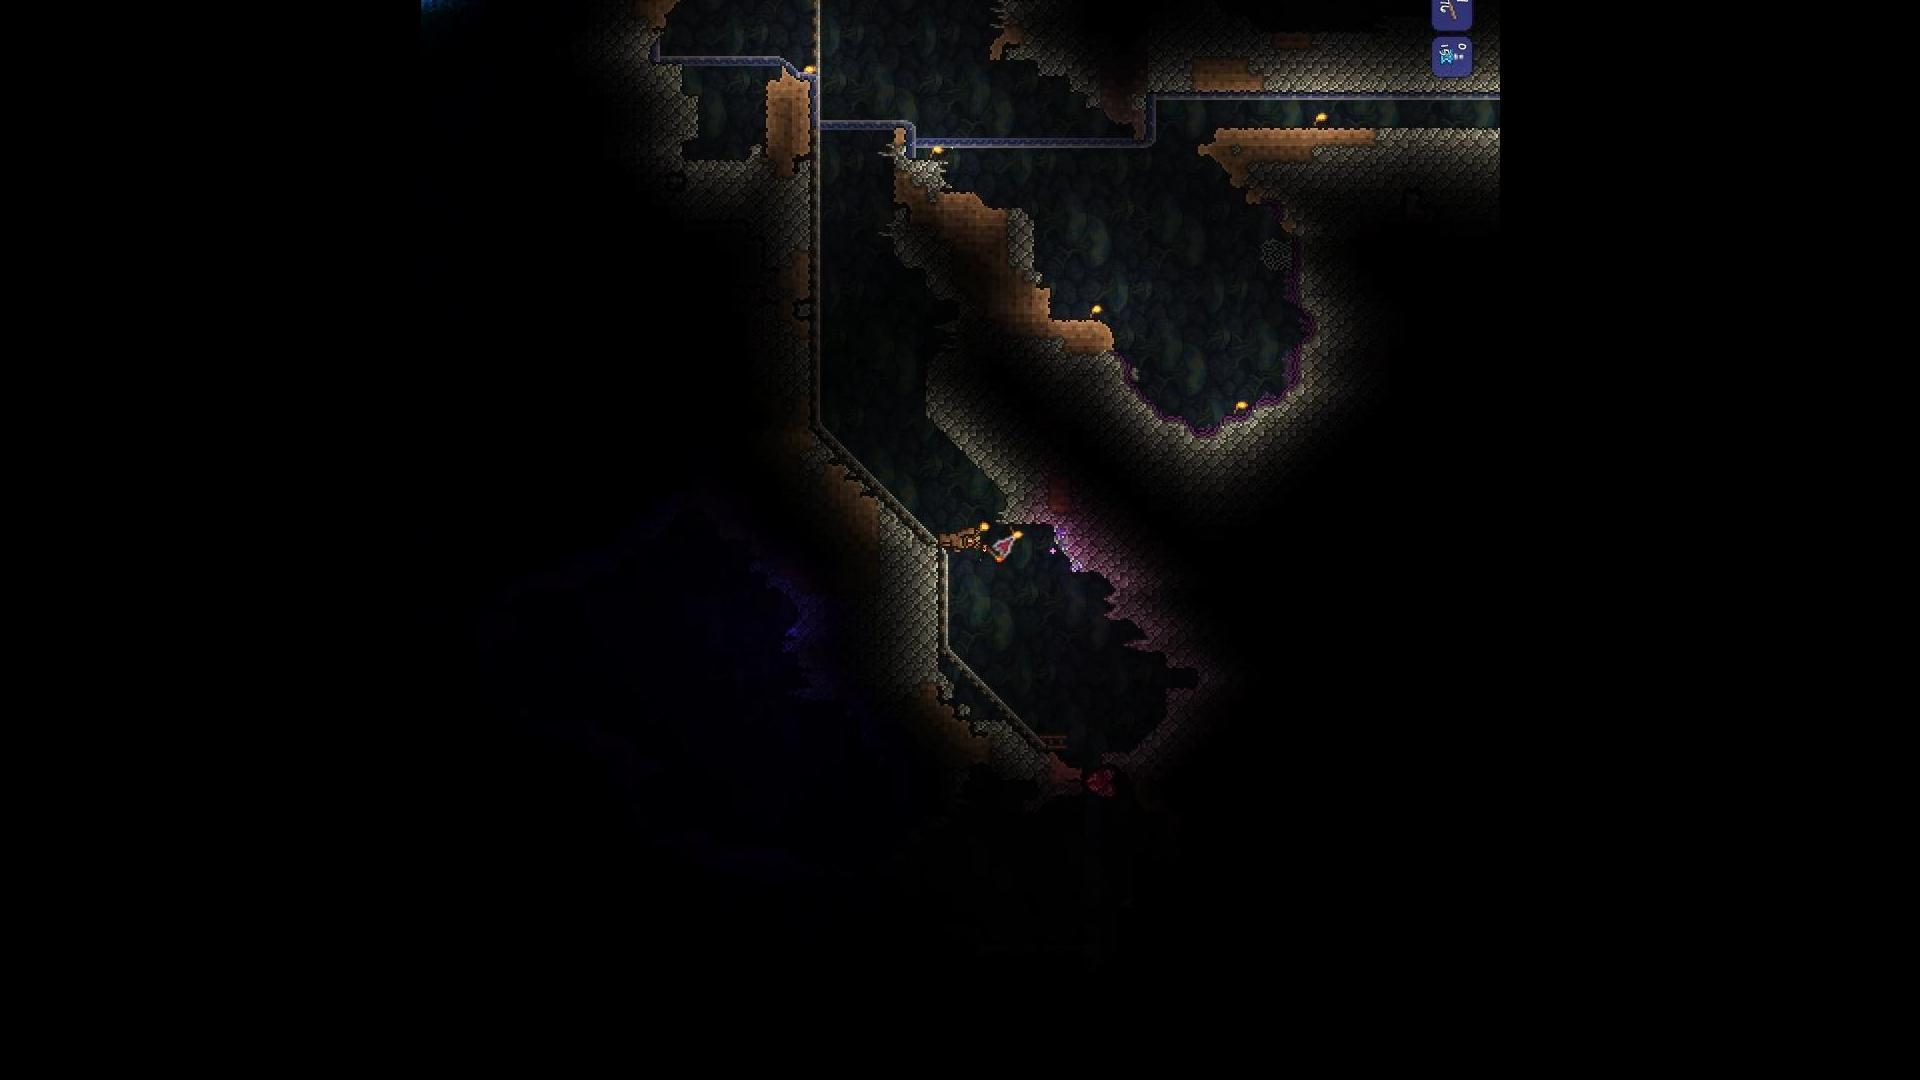cobwebT: (1259, 256, 1278, 272), (1259, 239, 1276, 255), (1276, 255, 1292, 272), (1278, 239, 1292, 255)
rope: (1439, 49, 1468, 66)
